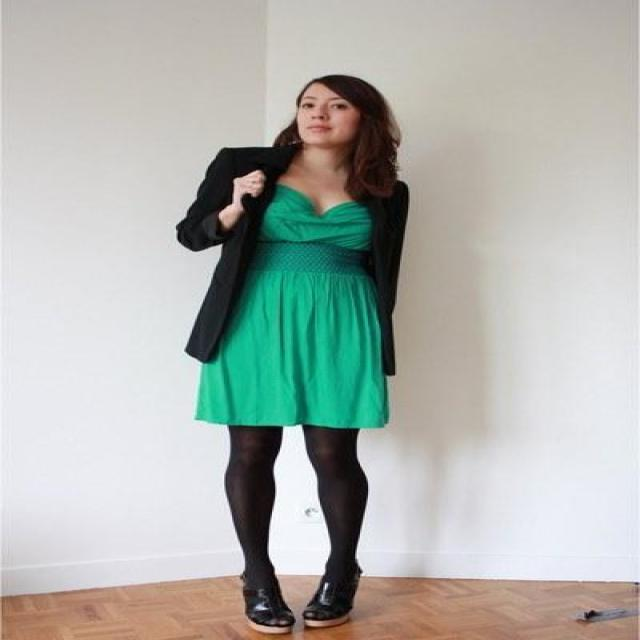dress: (195, 192, 394, 430)
jacket: (176, 120, 408, 370)
shoe: (240, 564, 357, 630)
